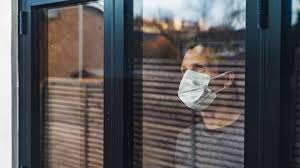mask: (175, 34, 233, 113)
